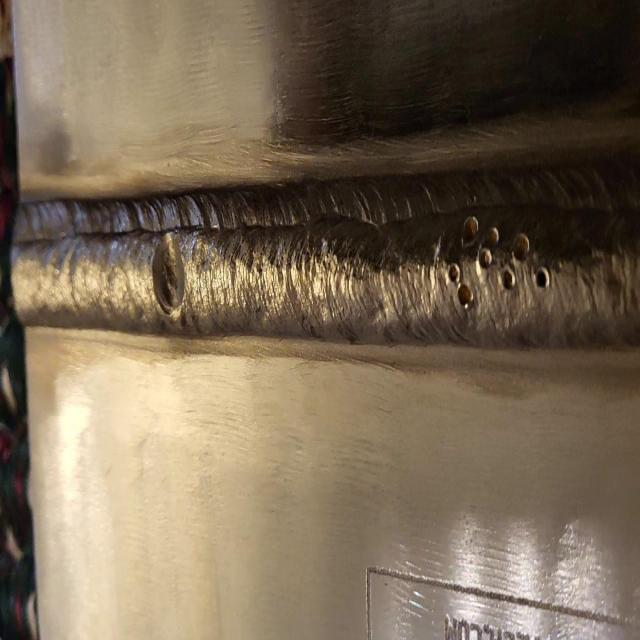Welding Line: (15, 192, 639, 342)
Workpiece: (16, 13, 640, 640)
porosity: (448, 213, 550, 306), (151, 228, 185, 316)
